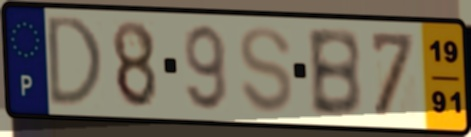7: (368, 29, 418, 120)
8: (110, 19, 159, 111)
9: (181, 22, 230, 114)
B: (304, 26, 365, 121)
D: (46, 13, 106, 110)
S: (237, 24, 297, 117)
